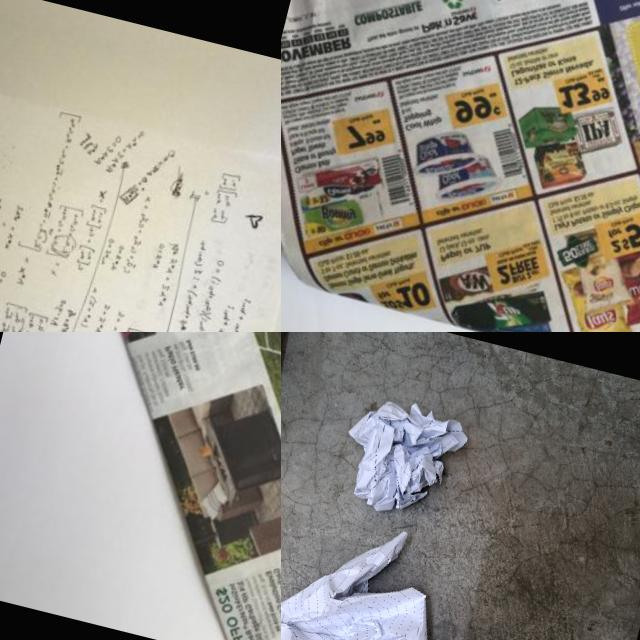papel: (281, 0, 640, 332), (0, 332, 281, 640), (0, 86, 281, 332), (281, 503, 475, 640), (330, 388, 476, 532)
